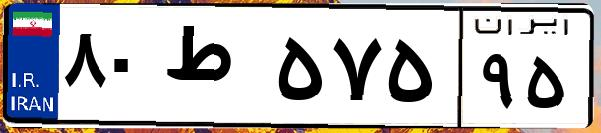0: (110, 28, 158, 98)
5: (270, 28, 330, 110), (385, 28, 445, 110), (525, 38, 570, 115)
7: (330, 28, 385, 110)
8: (57, 26, 110, 100)
9: (475, 38, 525, 113)
ط: (158, 20, 270, 120)
